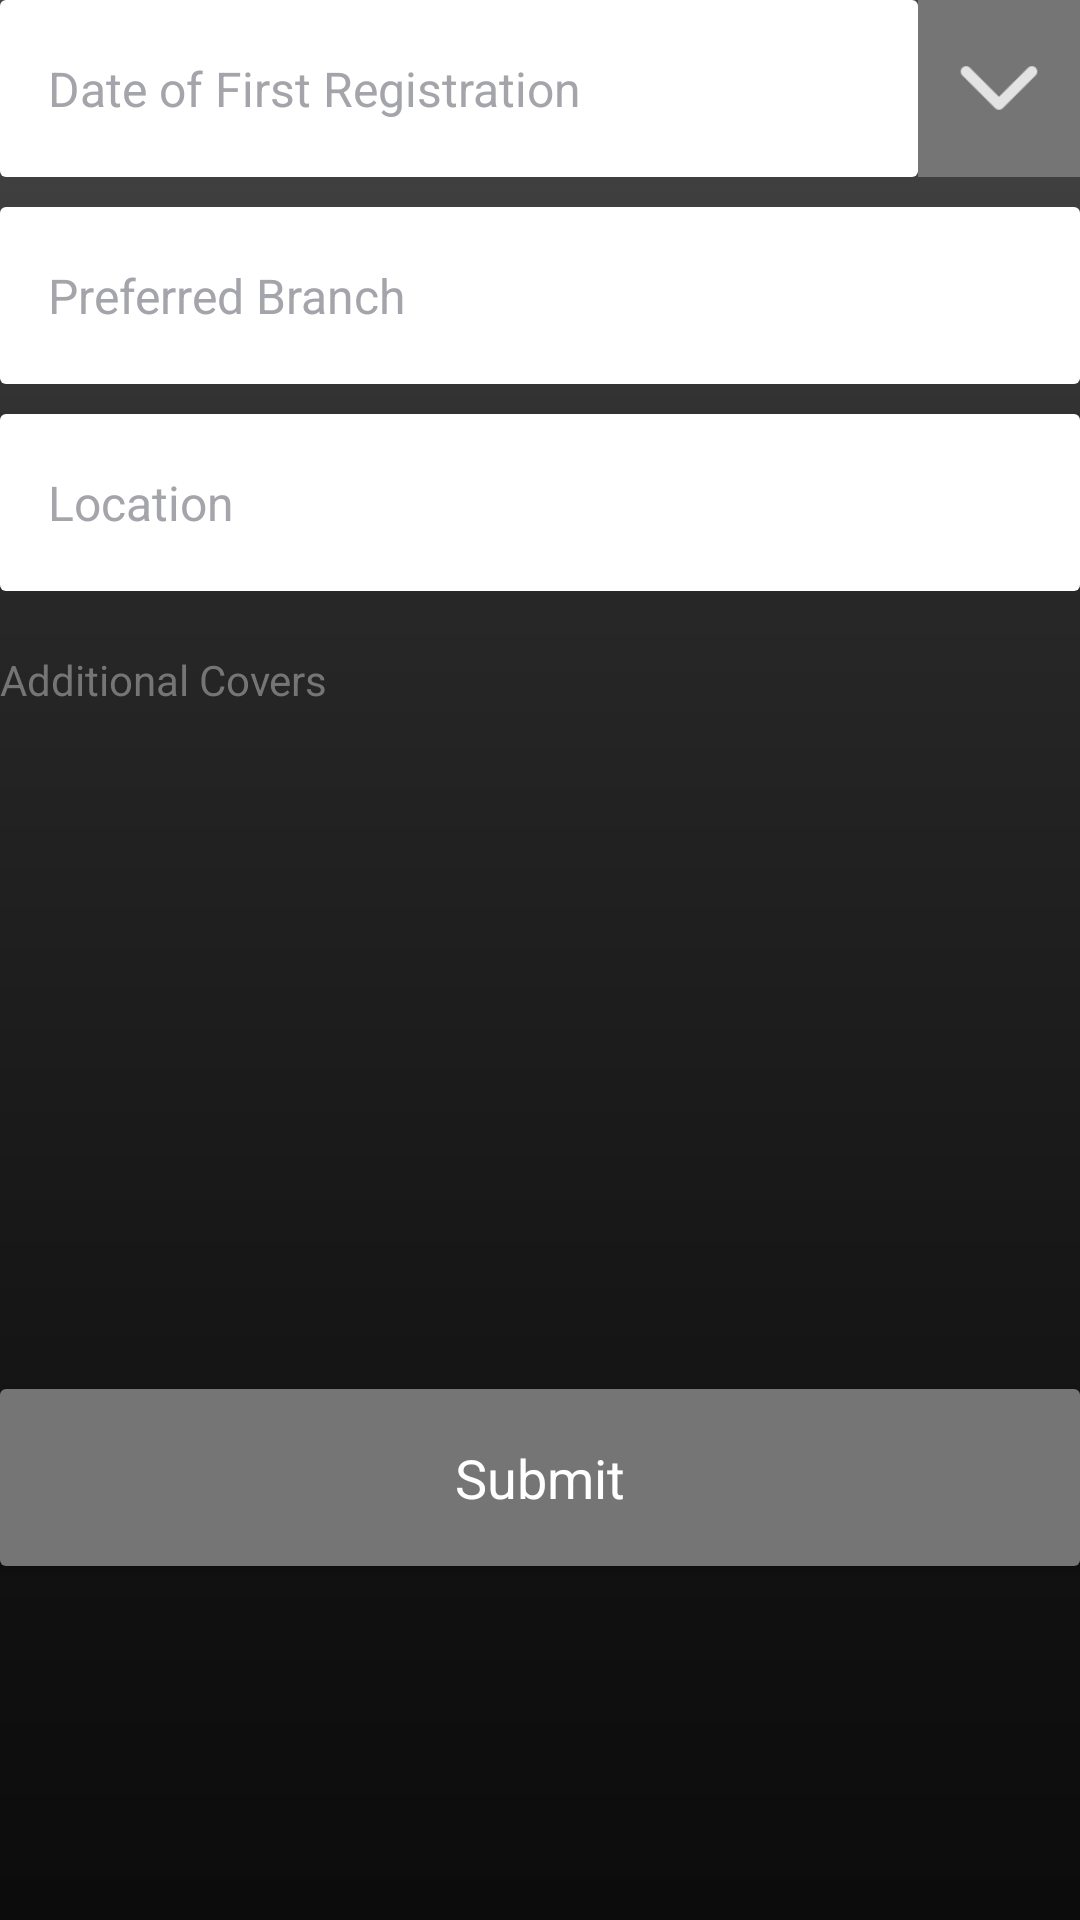

Icon click points for this 1080x1920 phone screenshot, format (x=x, y=y):
down: (x=999, y=88)
